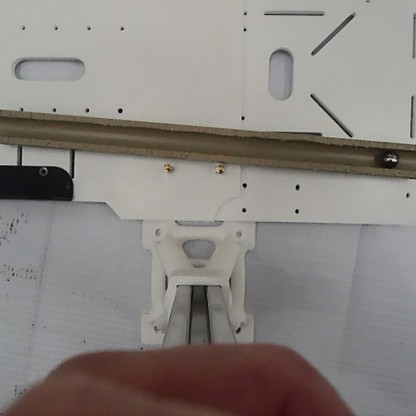ironball: (380, 147, 400, 168)
